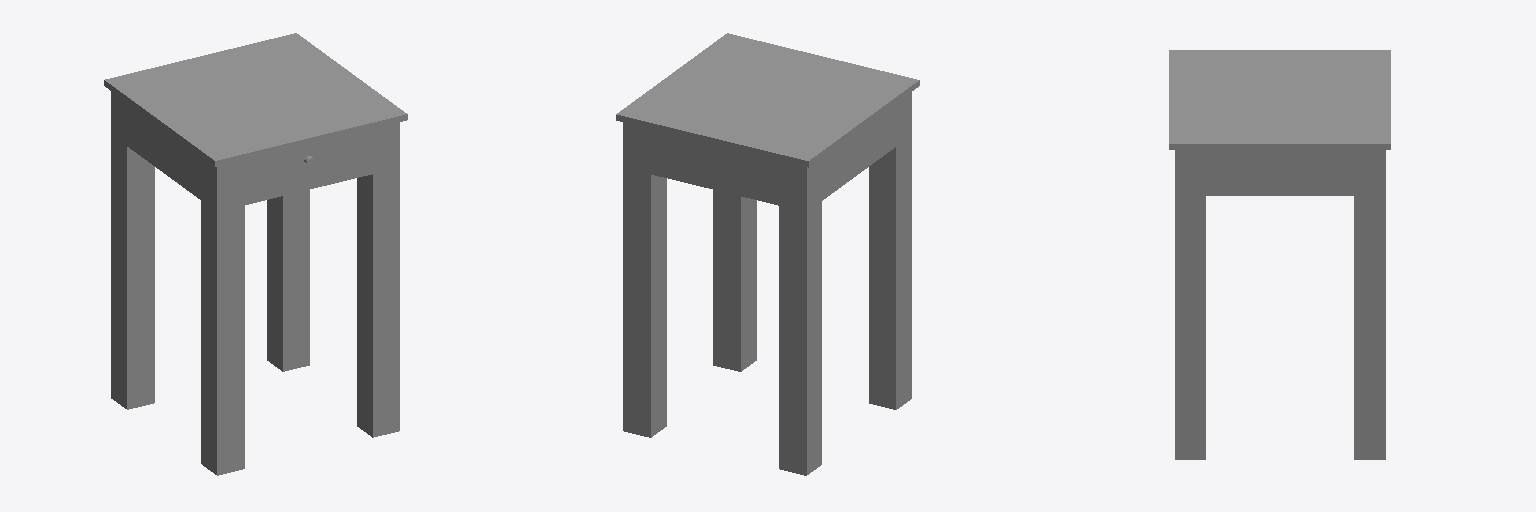
File: end_table.obj
3 renders of one model, left to right at view 1: azimuth 30°, elevation 25°; view 2: azimuth 150°, elevation 25°; view 3: azimuth 270°, elevation 25°, orthographic.
Visible parts, largest first — view 1: Cube; view 2: Cube; view 3: Cube.
Boxes of the visible parts, x1=… form: Cube: x1=104, y1=33, x2=407, y2=475; Cube: x1=616, y1=33, x2=919, y2=475; Cube: x1=1169, y1=50, x2=1390, y2=459.
Size of the model in its own units: 2.1 by 3.31 by 2.11.